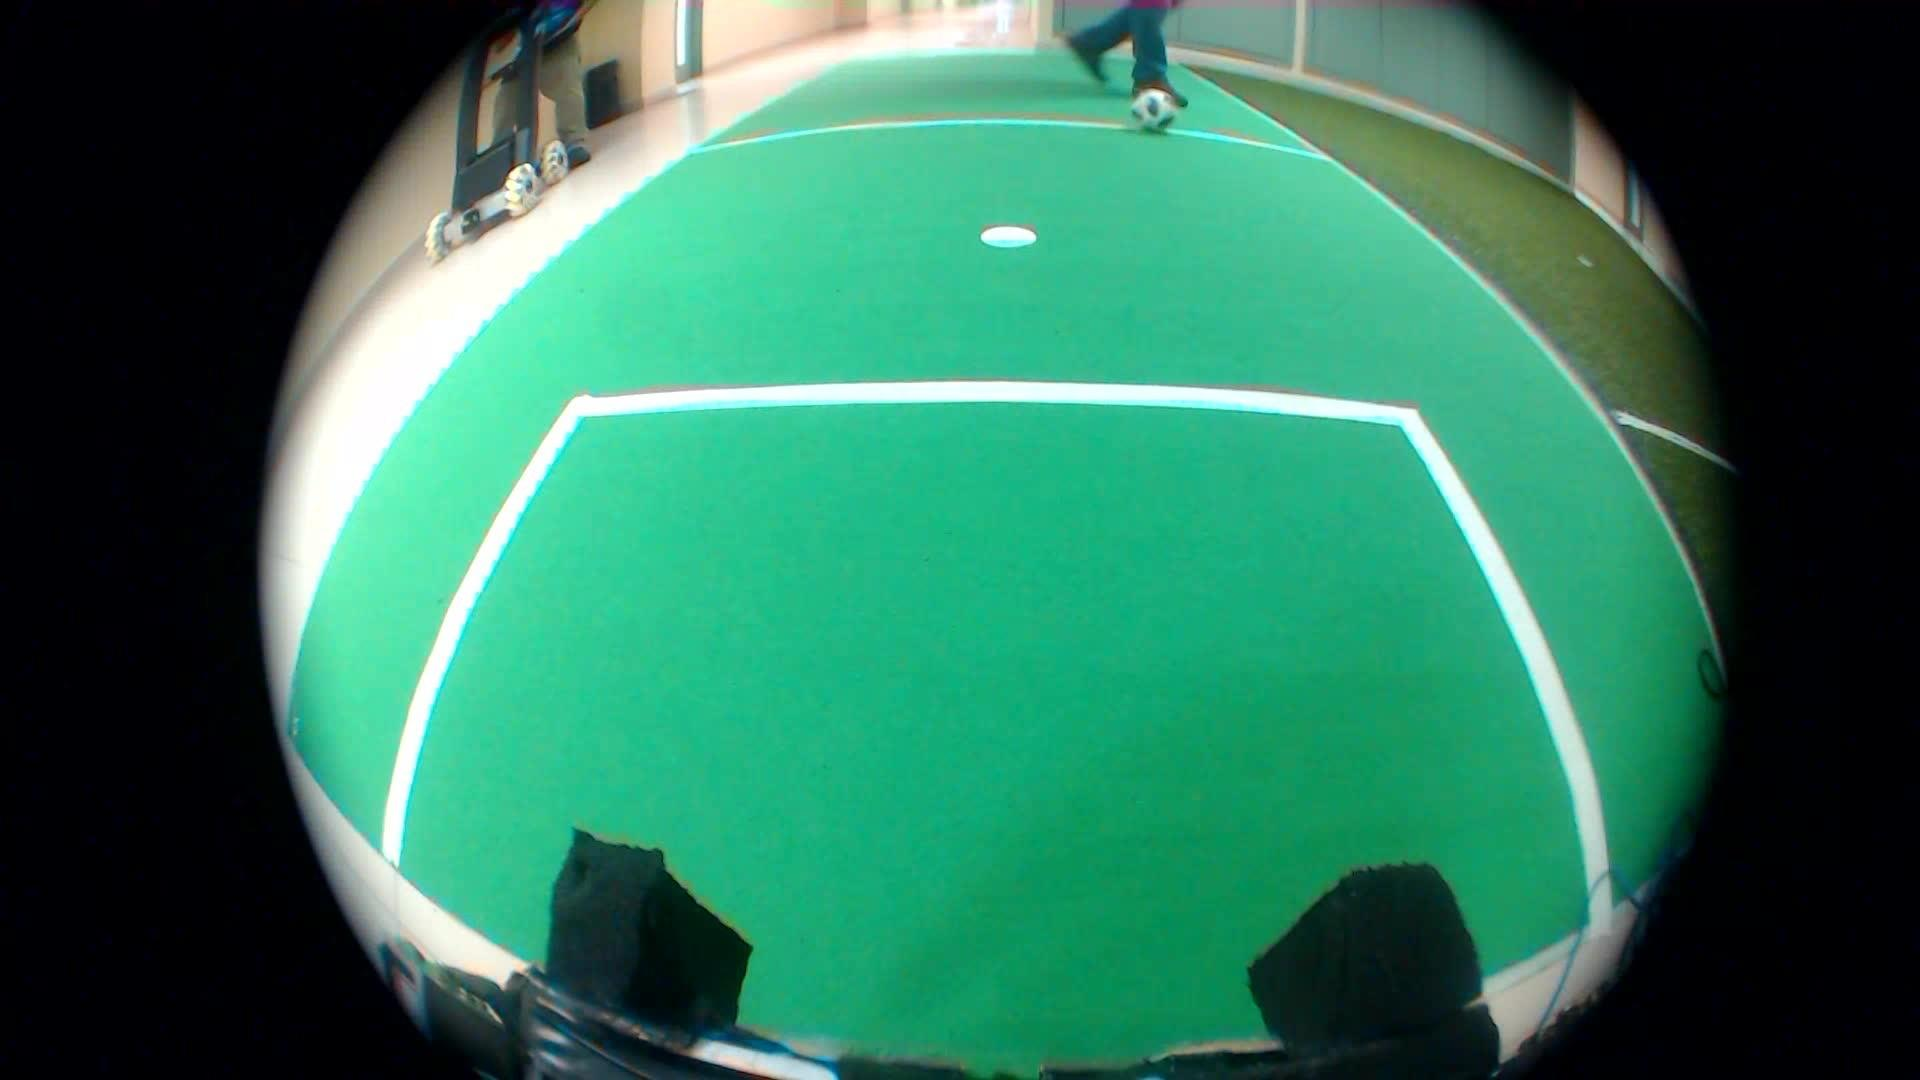ball: (1118, 76, 1175, 135)
